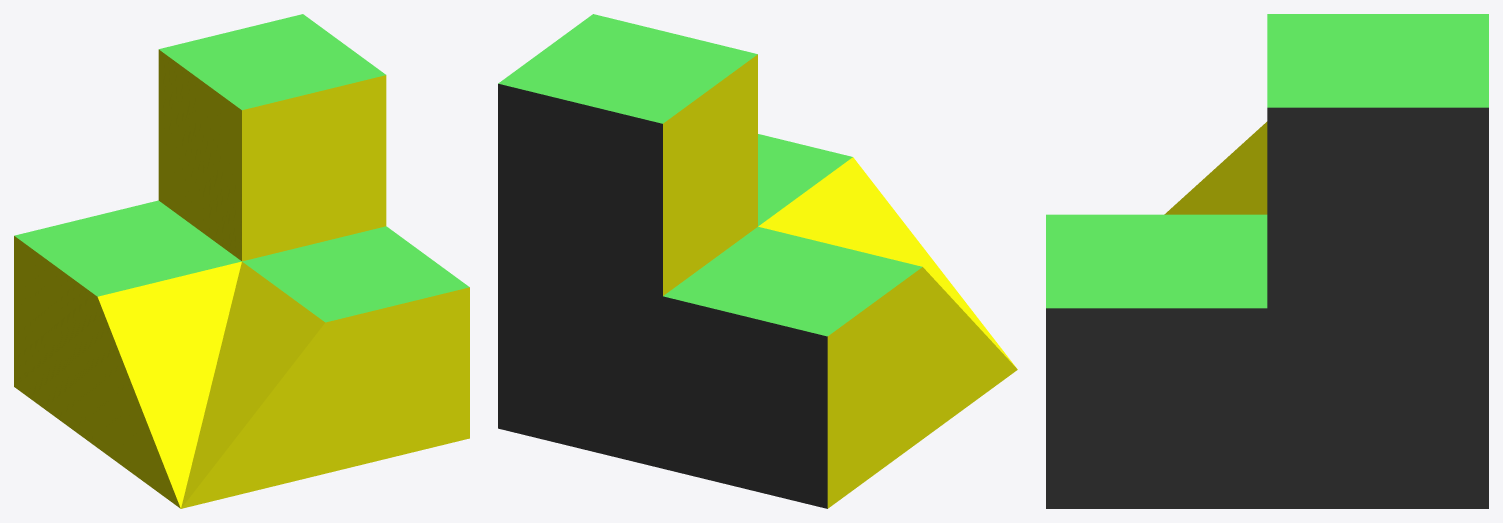
The model's file is dicezhu1.dae.
3 views of the same model, side by side, from view 1: azimuth 30°, elevation 25°; view 2: azimuth 150°, elevation 25°; view 3: azimuth 270°, elevation 25° (orthographic). The views are drawn at different scales.
Visible parts, largest first — view 1: dicezhu1 (×5); view 2: dicezhu1 (×6); view 3: dicezhu1 (×4).
Part boxes in pixels (x1,y1,x2,y2): dicezhu1 (×5): [14, 14, 469, 508]; dicezhu1 (×6): [498, 14, 1017, 508]; dicezhu1 (×4): [1046, 14, 1488, 508].
Size of the model in its own units: 39.37 by 39.37 by 39.37.
